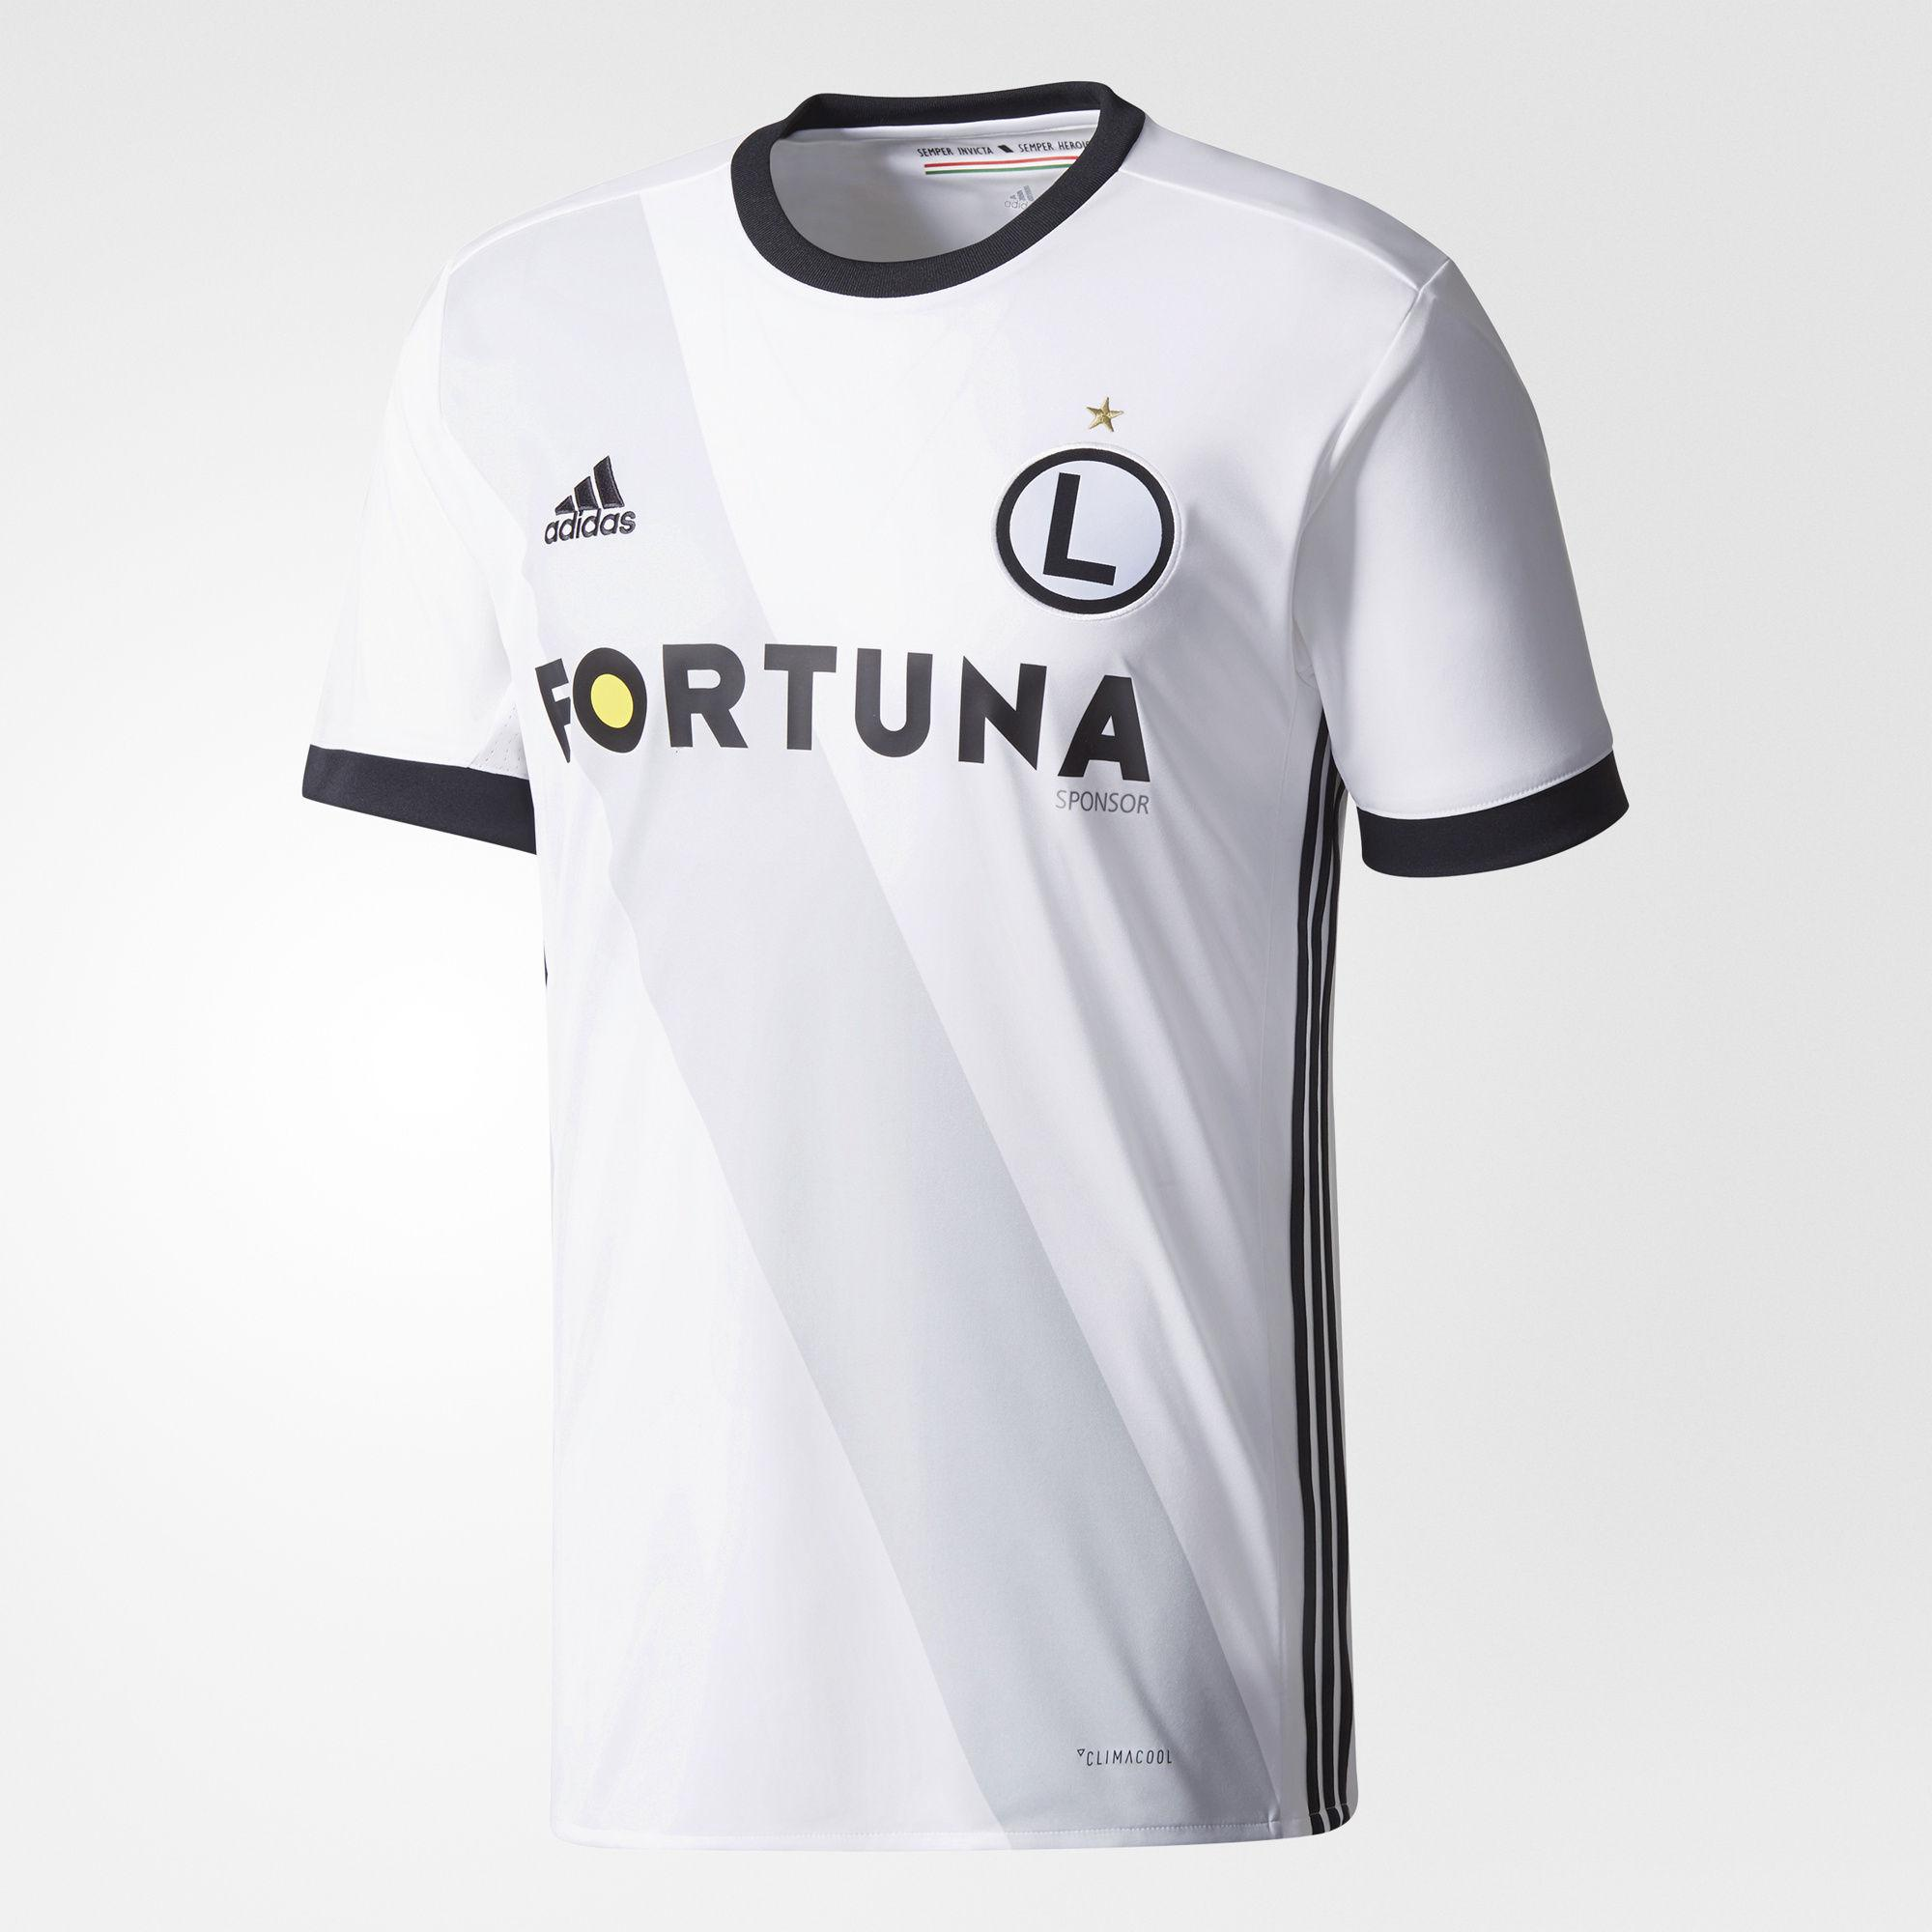teeshirt: (205, 85, 1675, 1905)
